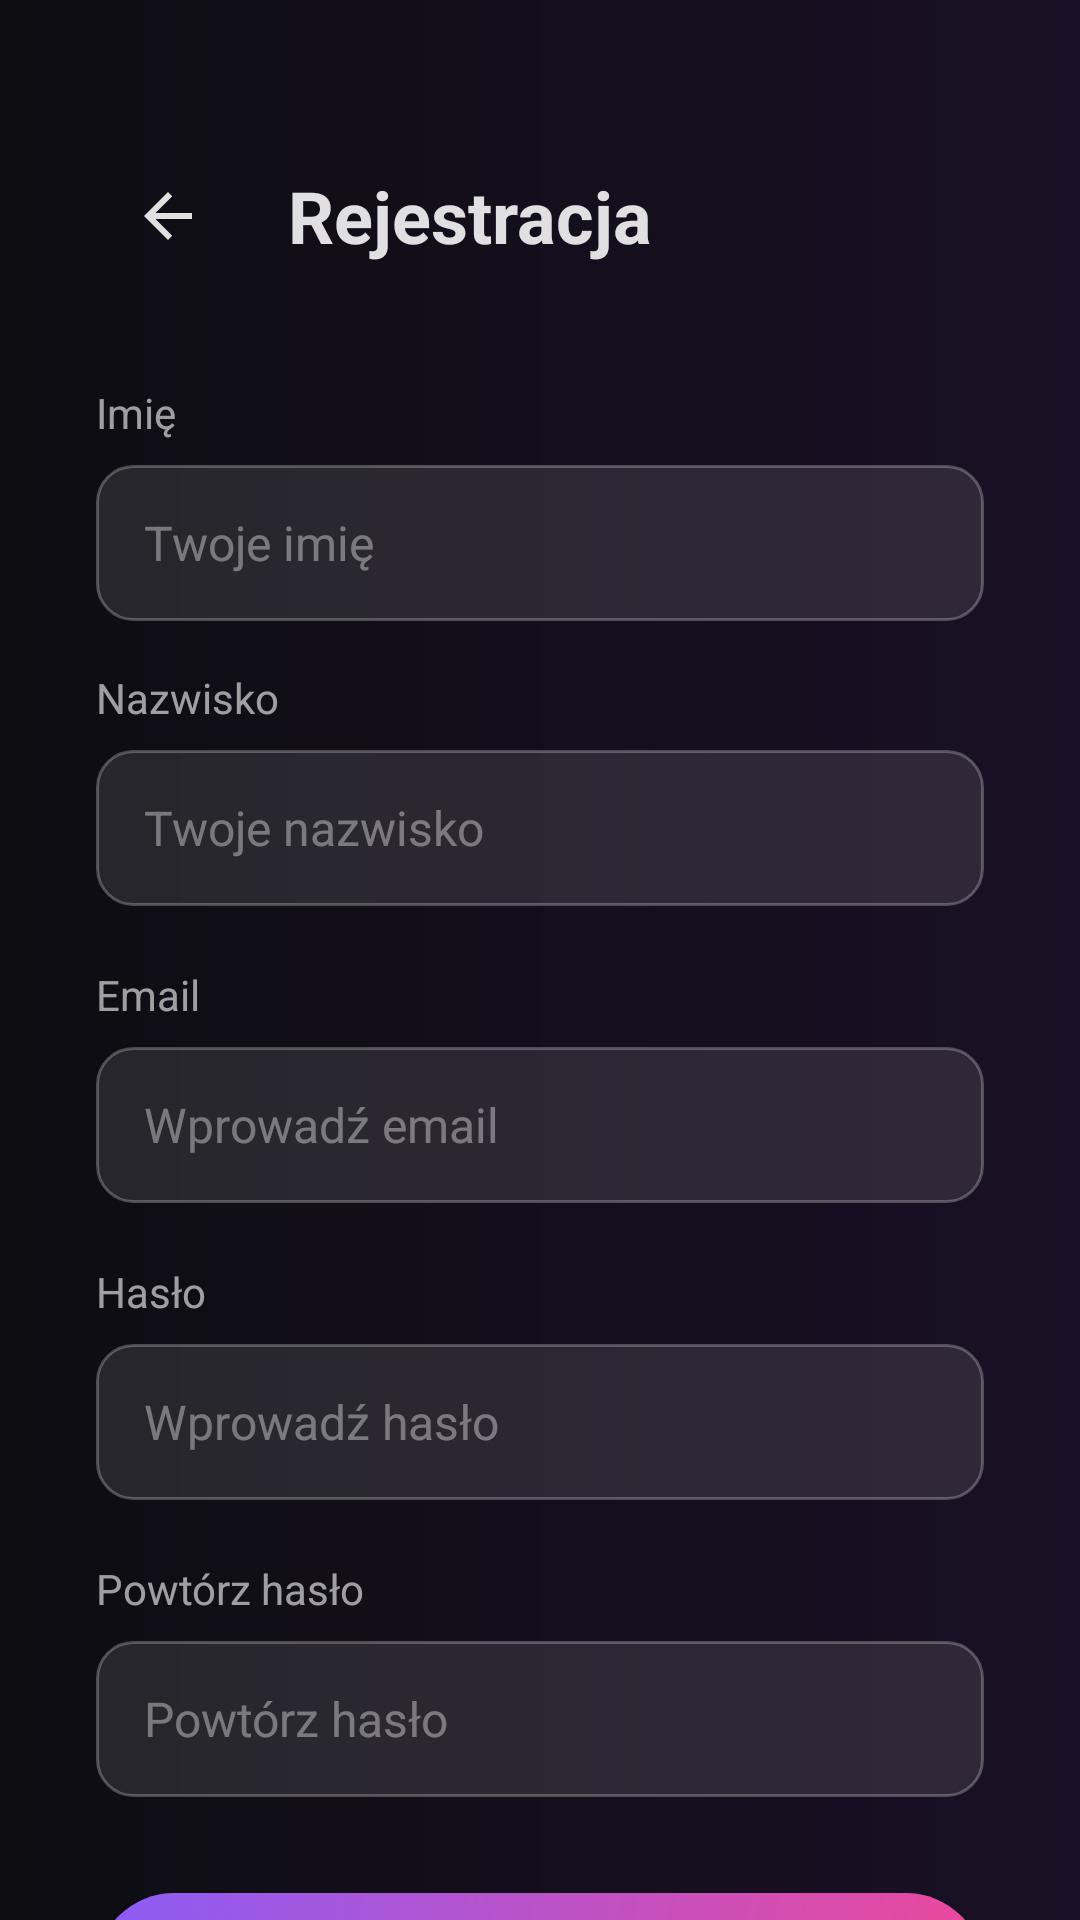

Screen size 1080px x 1920px. Icon name, then its box in pixels as (x1,y1,x2,y2):
Wstecz: (144,192,192,240)
